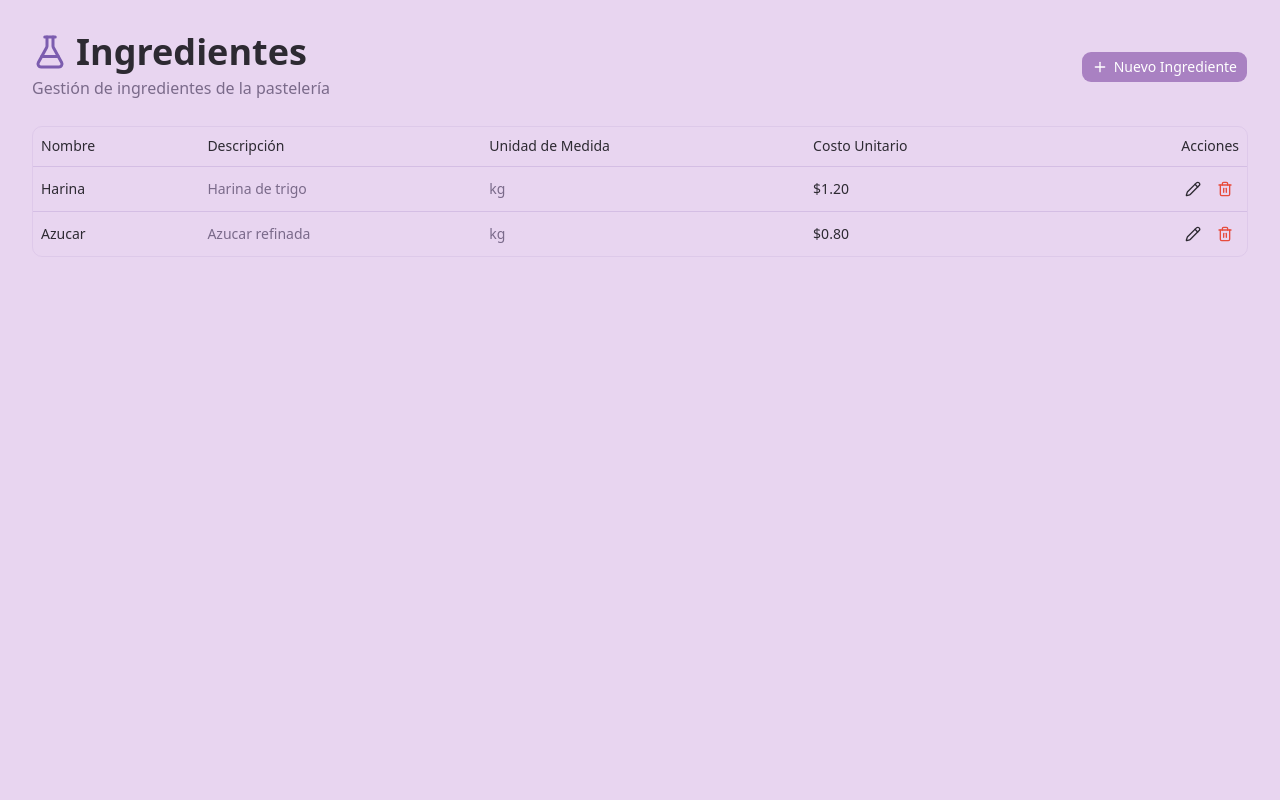
Ingredientes Component › should update an existing ingredient
Expected: the text "Harina" is shown, [33,167,199,212]
Click the button named "Editar" in the row of "Harina de trigo" at point(1193, 189), box [1179,175,1207,203]
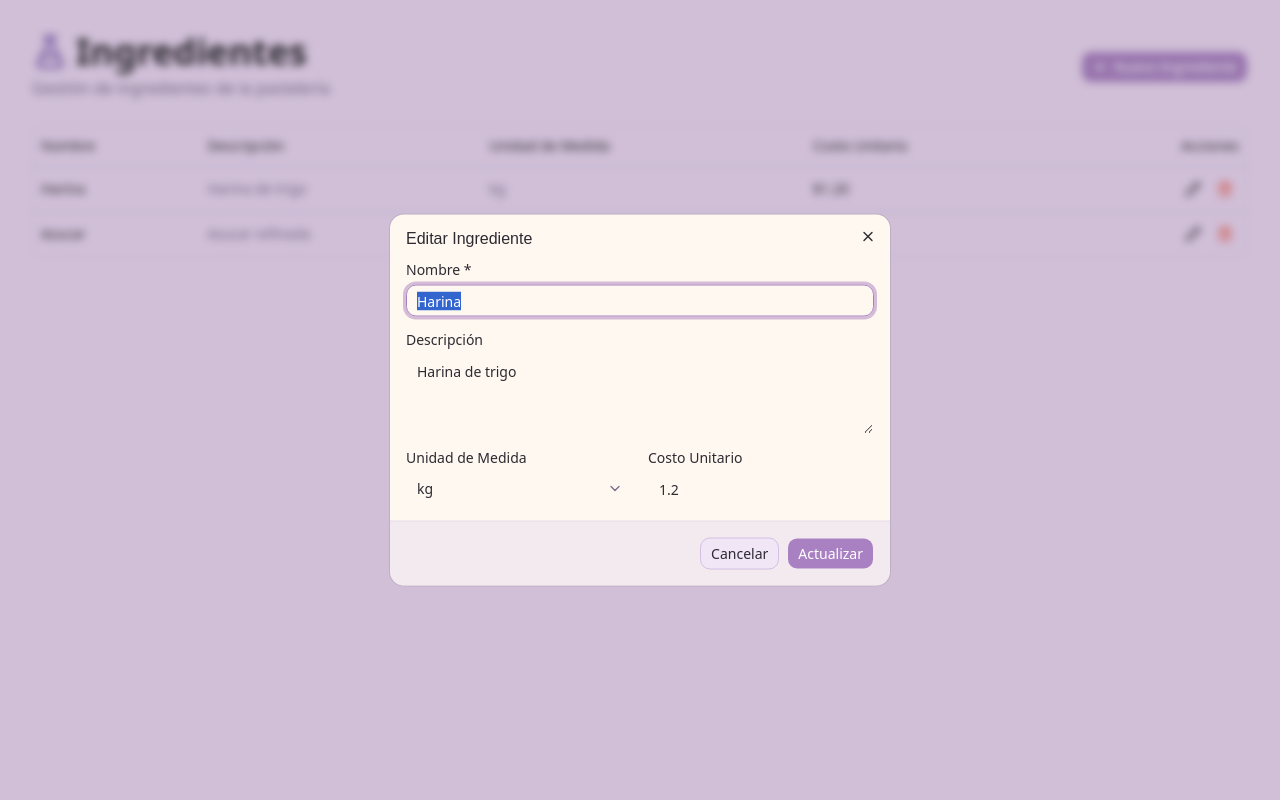
Now the heading "Editar Ingrediente" is shown, box [406,230,532,246]
Replace the text in the field showing "Harina" with "Harina Integral" at point(640, 300), box [406,284,874,316]
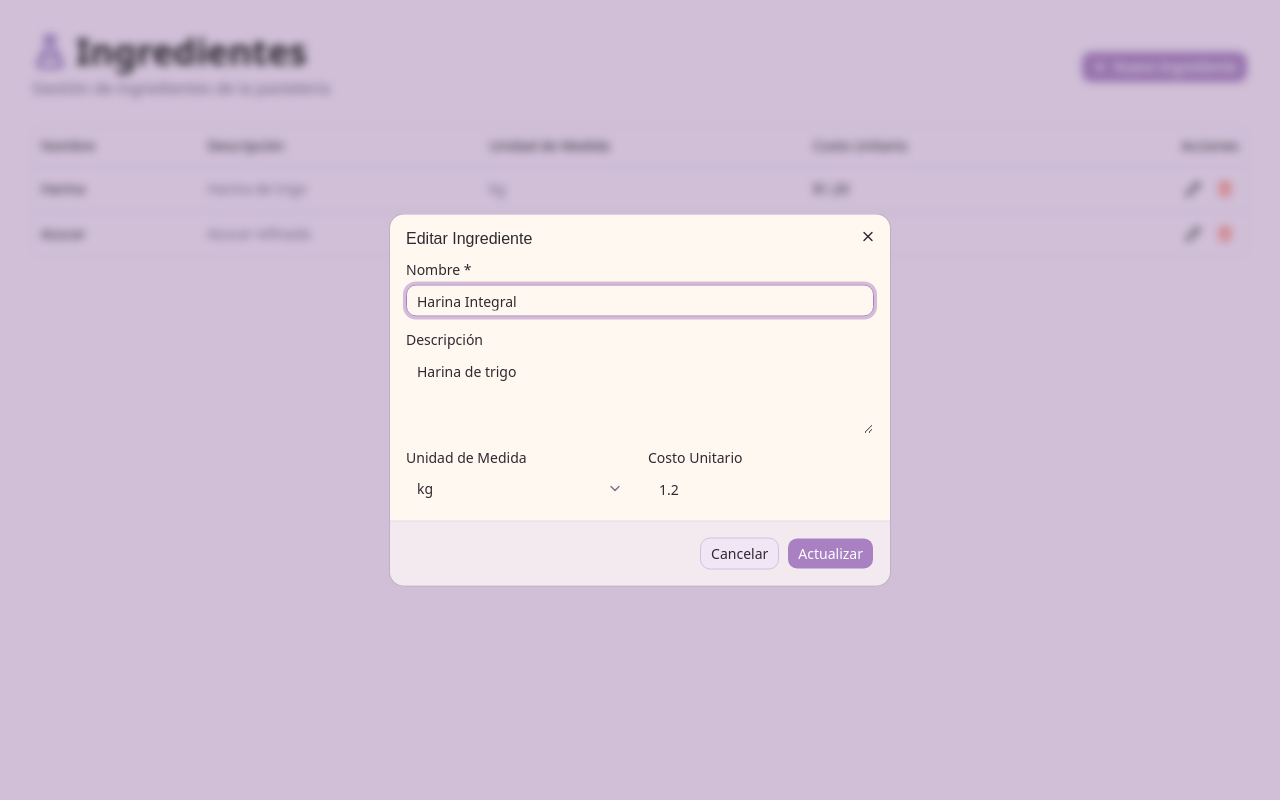
Click the button "Actualizar" at point(831, 554), box [787,538,874,570]
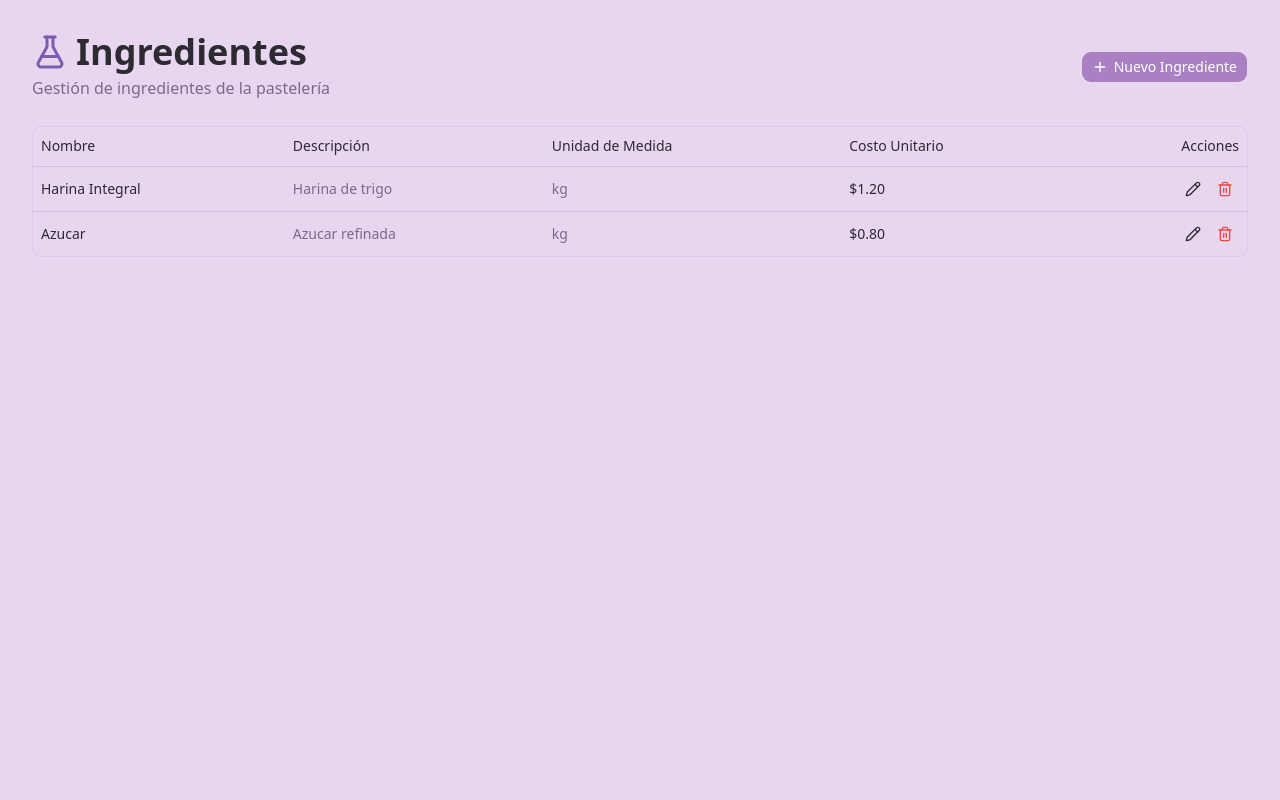
Now the text "Harina Integral" is shown, box [33,167,285,212]
